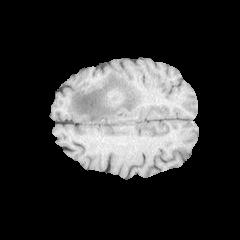glioma: (66, 69, 147, 122)
